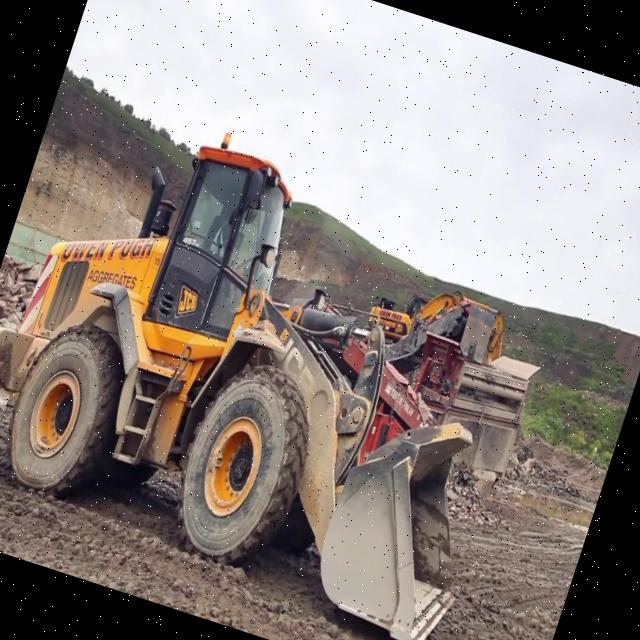Excavator: (362, 267, 511, 368)
Loader: (0, 77, 569, 640)
